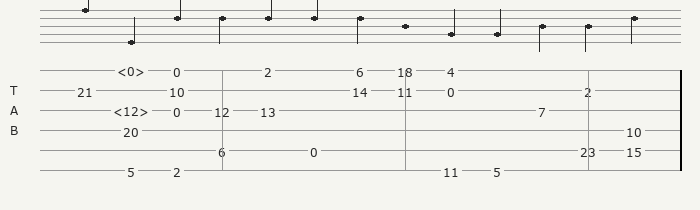0: (173, 104, 185, 117), (173, 64, 185, 77), (310, 144, 322, 157), (447, 84, 459, 97)
10: (169, 84, 189, 97), (626, 124, 646, 137)
11: (397, 84, 417, 97), (443, 164, 463, 177)
12: (214, 104, 234, 117)
13: (260, 104, 280, 117)
14: (352, 84, 372, 97)
15: (626, 144, 646, 157)
18: (397, 64, 417, 77)
2: (173, 164, 185, 177), (264, 64, 276, 77), (584, 84, 596, 97)
20: (123, 124, 143, 137)
21: (77, 84, 97, 97)
23: (580, 144, 600, 157)
4: (447, 64, 459, 77)
5: (127, 164, 139, 177), (493, 164, 505, 177)
6: (218, 144, 230, 157), (356, 64, 368, 77)
7: (538, 104, 550, 117)
harmonic: (113, 103, 153, 117), (117, 63, 149, 77)
